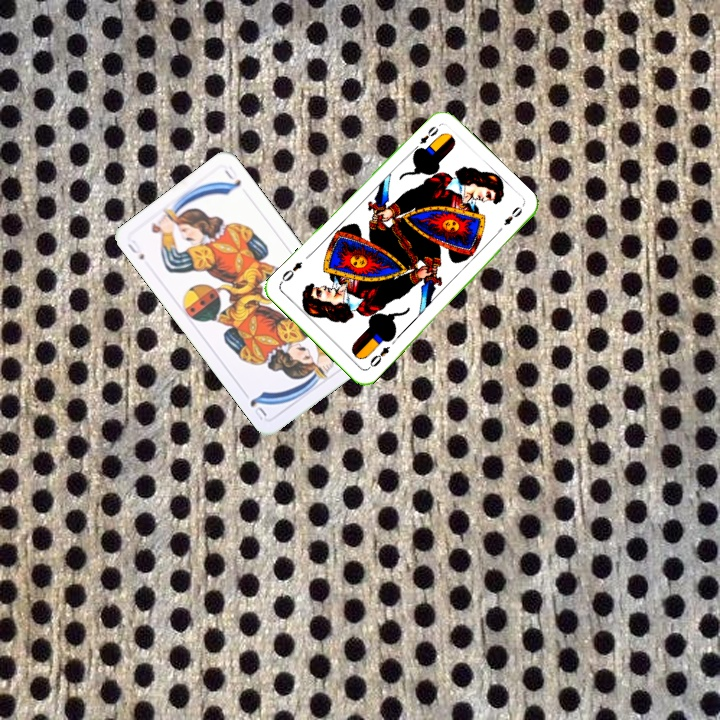EO: (409, 122, 441, 154), (364, 342, 392, 372)
SU: (123, 236, 147, 263)
